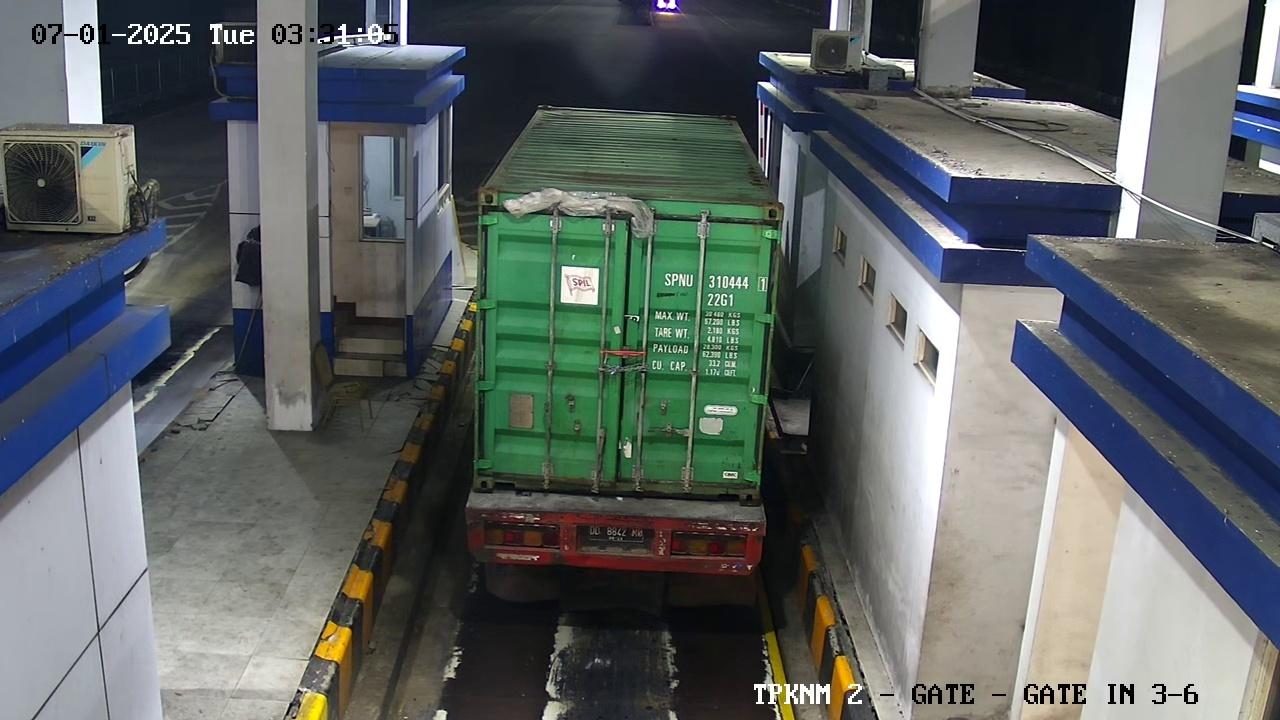Container_ID: (659, 269, 772, 294)
plate_number: (578, 507, 654, 556)
